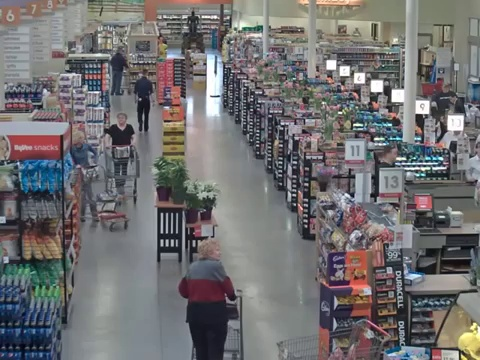face: (212, 247, 222, 260), (117, 115, 126, 124)
